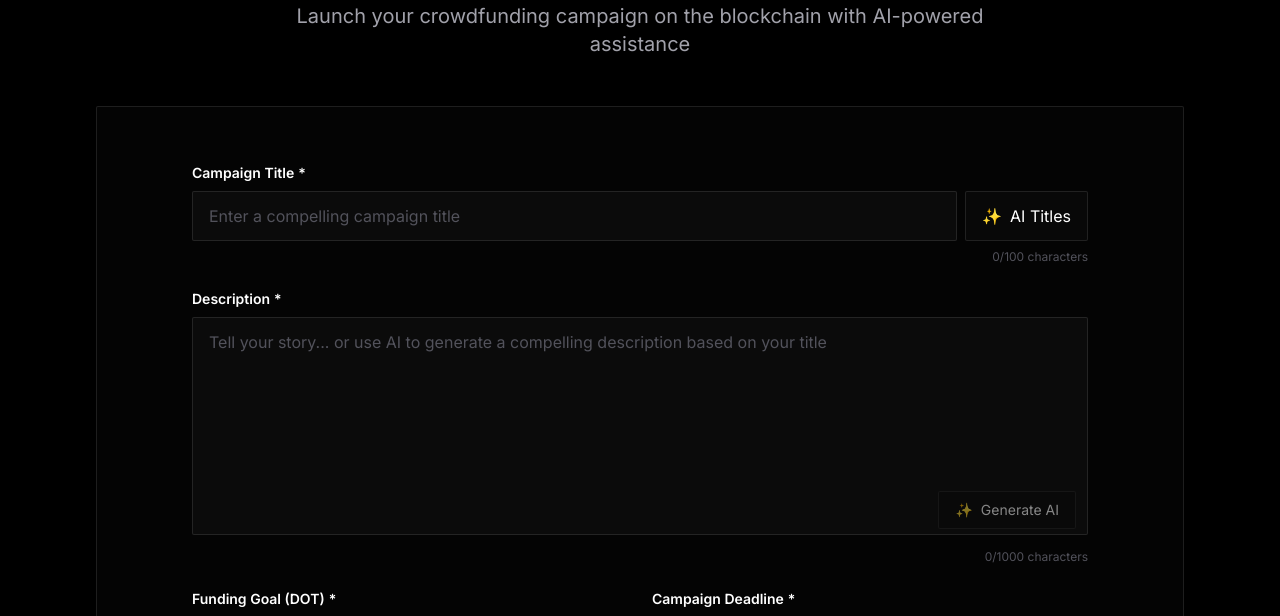
Test: Campaign Creation Integration Tests › Form Validation › should validate description minimum length (50 characters)
This screenshot has width=1280, height=616.
// Fill description with less than 50 characters
Type "Too short description" into the text box with placeholder "Tell your story" at {"x": 640, "y": 426}, box [192,317,1088,535]
(page scrolled)
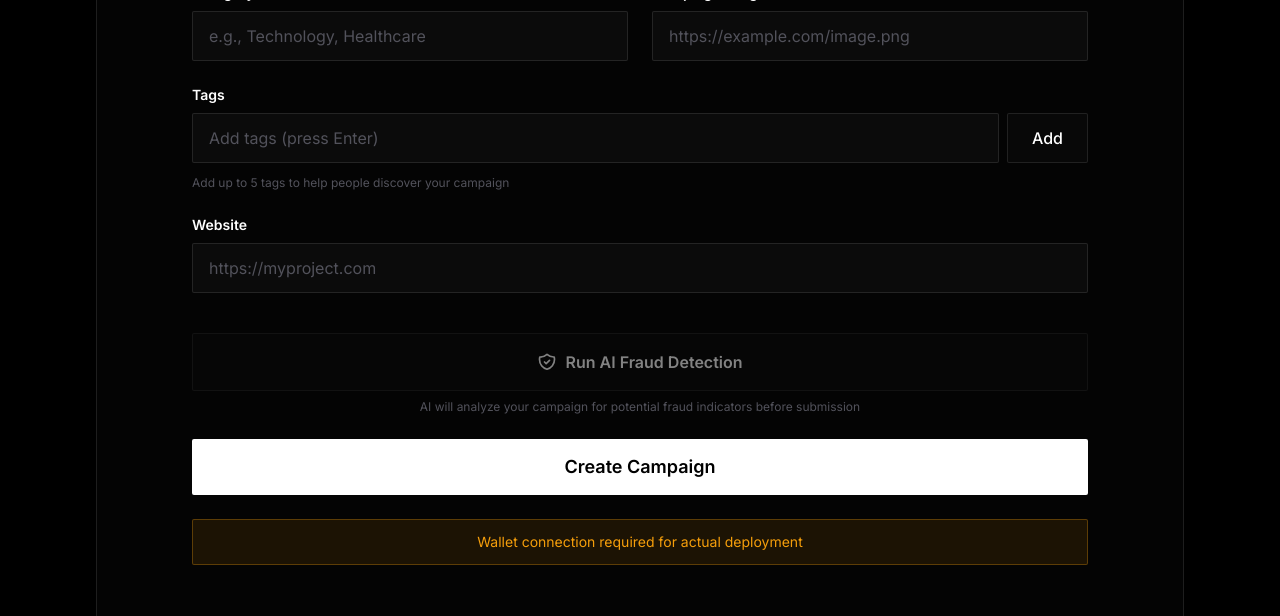
// Submit form
Click the button "Create Campaign" at {"x": 640, "y": 467}, box [192,439,1088,495]
(page scrolled)
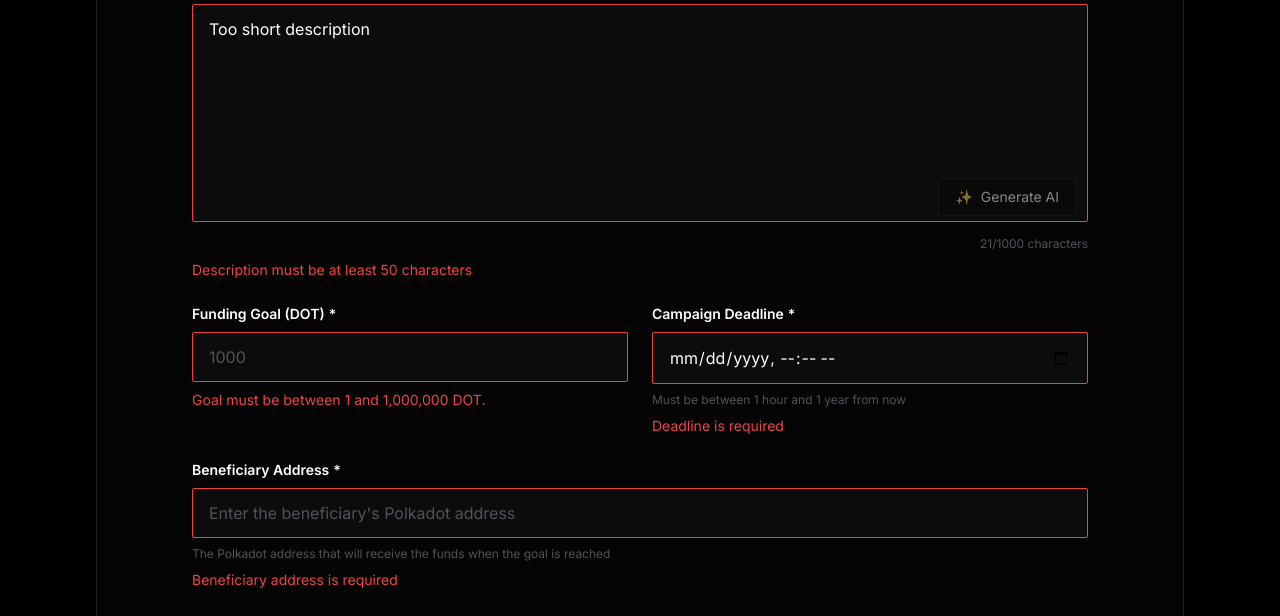
Now the text "Description must be at least 50 characters" is shown, box [192,261,472,278]
